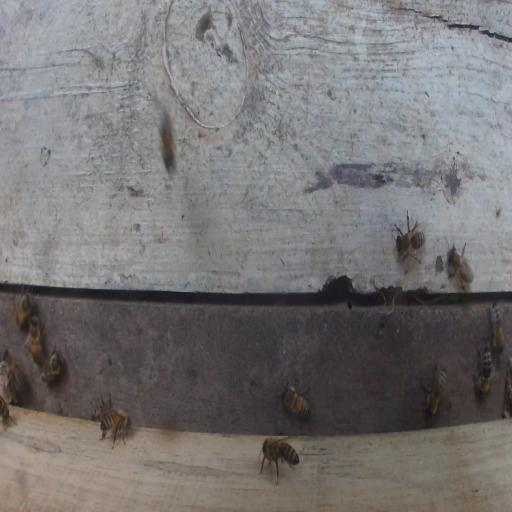Insects: (259, 435, 300, 485), (95, 395, 132, 448), (392, 210, 426, 264), (280, 371, 312, 423), (421, 363, 447, 418), (445, 242, 474, 290), (474, 338, 492, 397), (159, 111, 175, 174), (1, 346, 22, 393), (25, 316, 43, 368), (41, 347, 65, 384), (15, 286, 33, 329), (490, 301, 504, 355), (1, 395, 14, 429)
